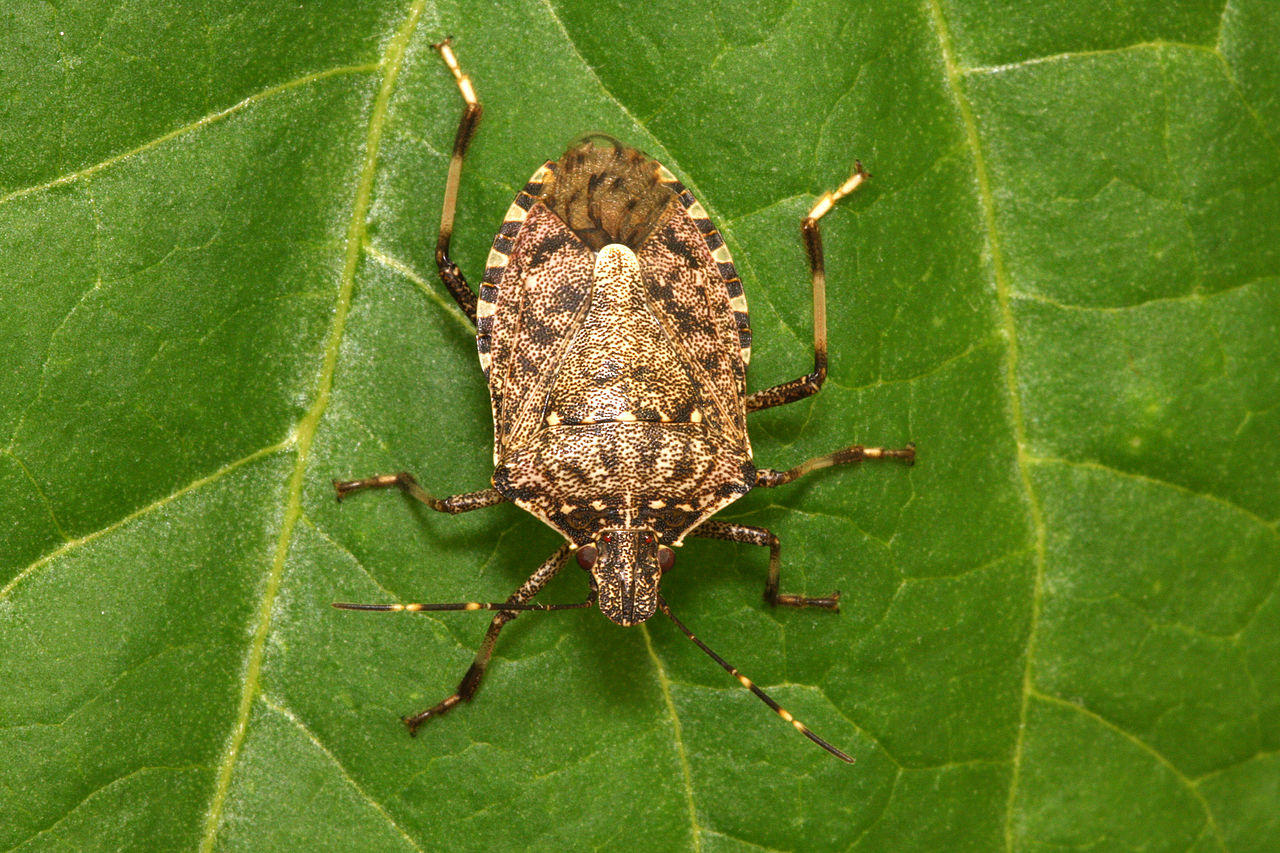Brown Marmorated Stink Bug: (325, 24, 930, 780)
